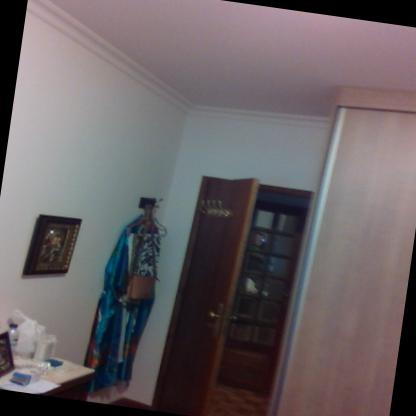semi: (151, 158, 333, 415)
